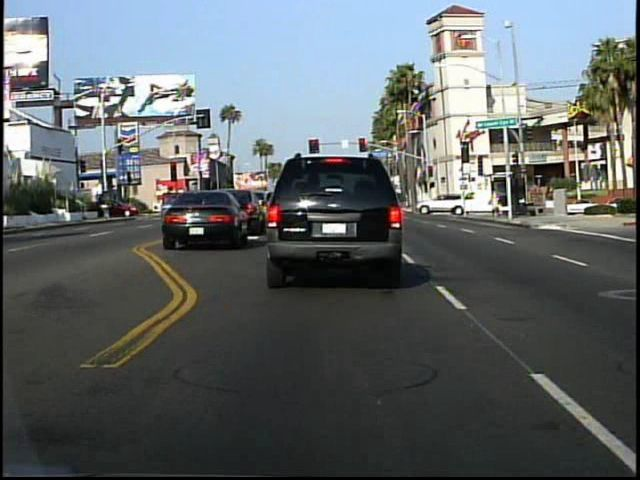person: (488, 185, 503, 219)
